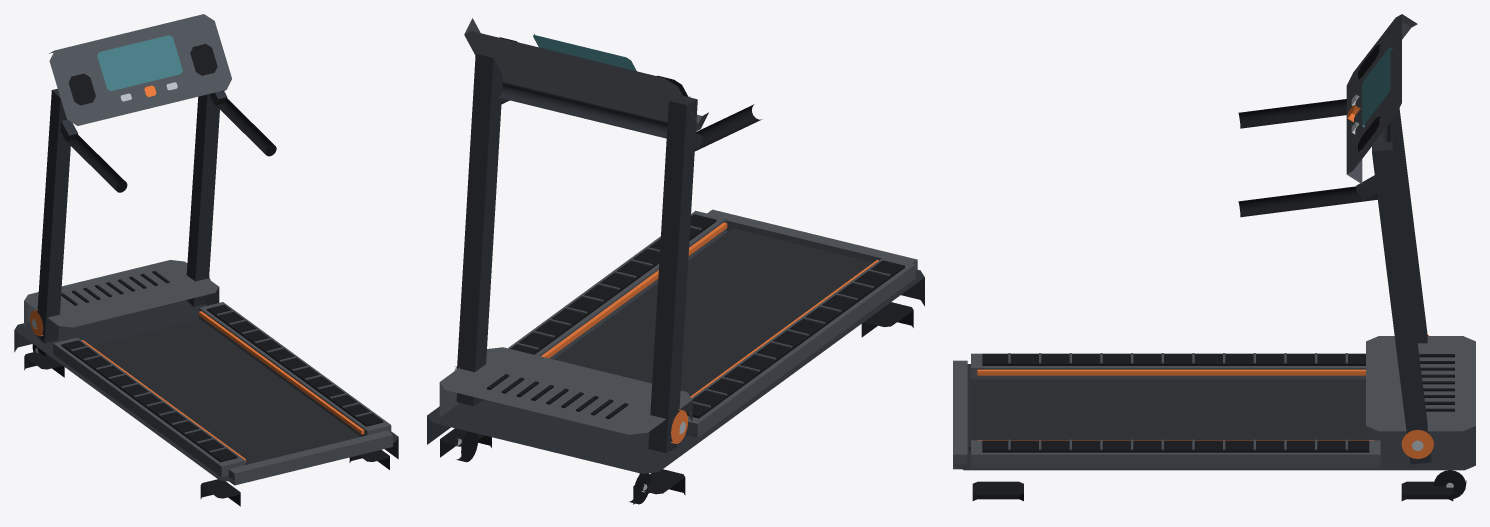
Rendered from surge-compact-treadmill.glb.
3 renders of one model, left to right at view 1: azimuth 30°, elevation 25°; view 2: azimuth 150°, elevation 25°; view 3: azimuth 270°, elevation 25°, orthographic. The views are drawn at different scales.
Parts seen in each view (by area): view 1: Moulded charcoal housing parts, Running belt parts, Graphite treadmill frame parts, Rubber steps and grips parts, Teal console screen parts, Safety orange trim parts; view 2: Graphite treadmill frame parts, Moulded charcoal housing parts, Running belt parts, Rubber steps and grips parts, Safety orange trim parts, Teal console screen parts; view 3: Moulded charcoal housing parts, Running belt parts, Rubber steps and grips parts, Graphite treadmill frame parts, Safety orange trim parts, Teal console screen parts.
Part boxes in pixels (bbox=[...]): Moulded charcoal housing parts: bbox=[24, 14, 392, 485]; Running belt parts: bbox=[91, 319, 359, 464]; Graphite treadmill frame parts: bbox=[14, 88, 398, 481]; Rubber steps and grips parts: bbox=[24, 44, 389, 506]; Teal console screen parts: bbox=[97, 35, 182, 90]; Safety orange trim parts: bbox=[30, 85, 364, 462]; Graphite treadmill frame parts: bbox=[427, 54, 924, 473]; Moulded charcoal housing parts: bbox=[439, 18, 917, 437]; Running belt parts: bbox=[554, 228, 872, 396]; Rubber steps and grips parts: bbox=[440, 37, 913, 504]; Safety orange trim parts: bbox=[459, 222, 878, 443]; Teal console screen parts: bbox=[533, 34, 636, 71]; Moulded charcoal housing parts: bbox=[953, 14, 1475, 469]; Running belt parts: bbox=[969, 379, 1369, 450]; Rubber steps and grips parts: bbox=[972, 44, 1466, 500]; Graphite treadmill frame parts: bbox=[953, 108, 1475, 470]; Safety orange trim parts: bbox=[977, 105, 1433, 458]; Teal console screen parts: bbox=[1362, 47, 1392, 127].
Size of the model in its own units: 0.78 by 1.38 by 1.62.
